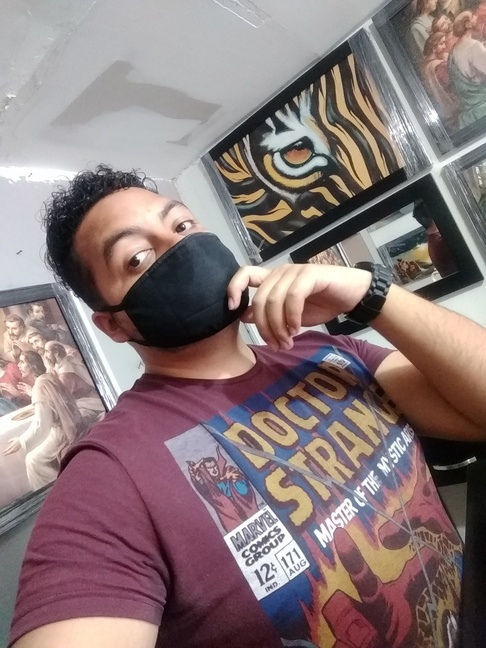Yoshi: (28, 148, 286, 367)
